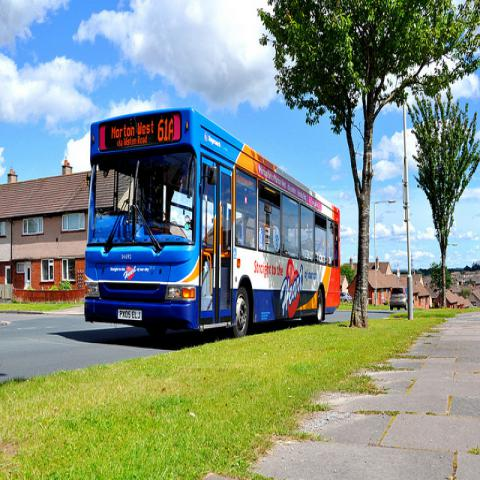bus: (84, 108, 341, 338)
car: (390, 286, 415, 312), (340, 290, 352, 302)
